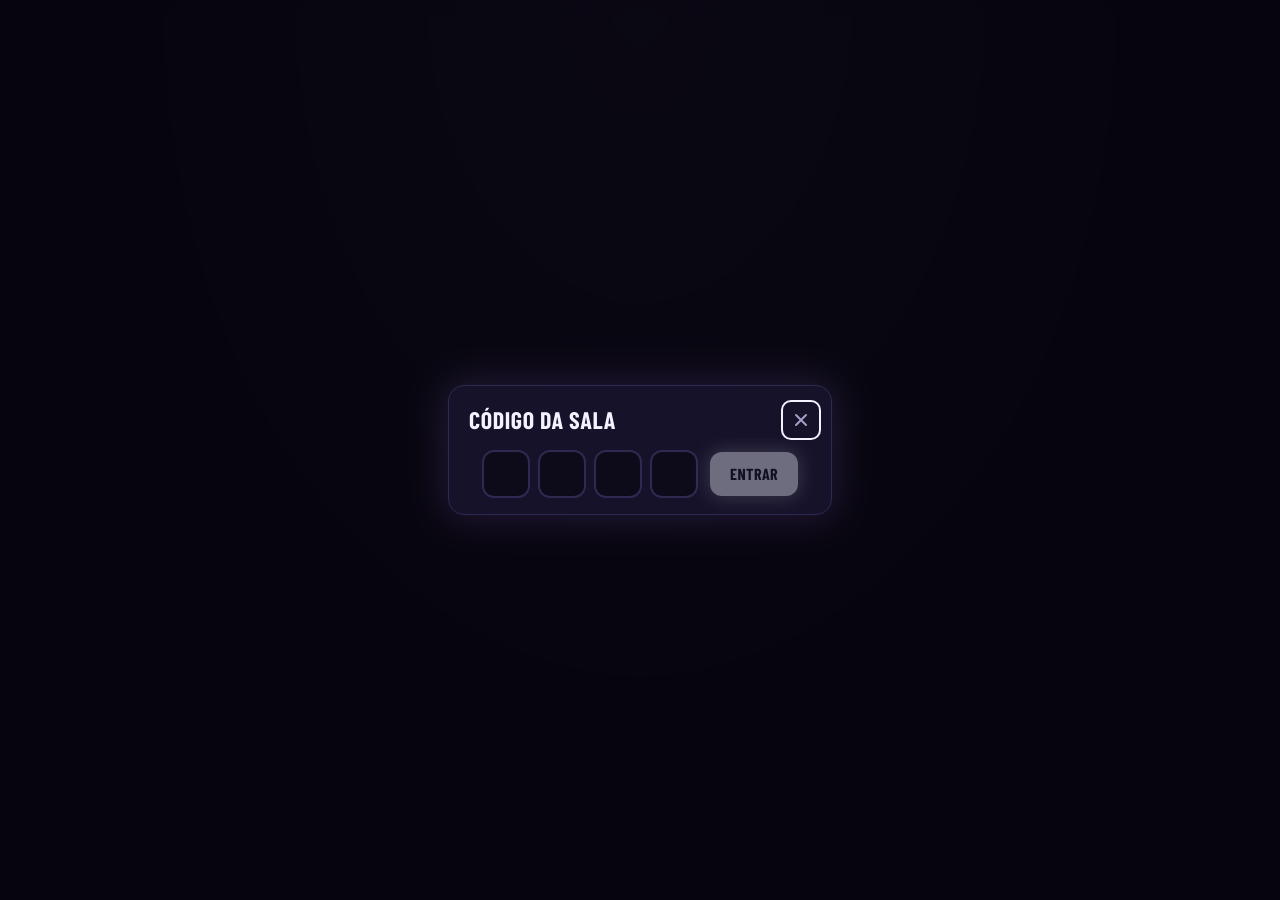
Test: JoinRoomModal › erro da sala aparece em vermelho e mantém os campos
This screenshot has width=1280, height=900.
Click the field named "Dígito 1" at coordinates (506, 474), box [482,450,530,498]
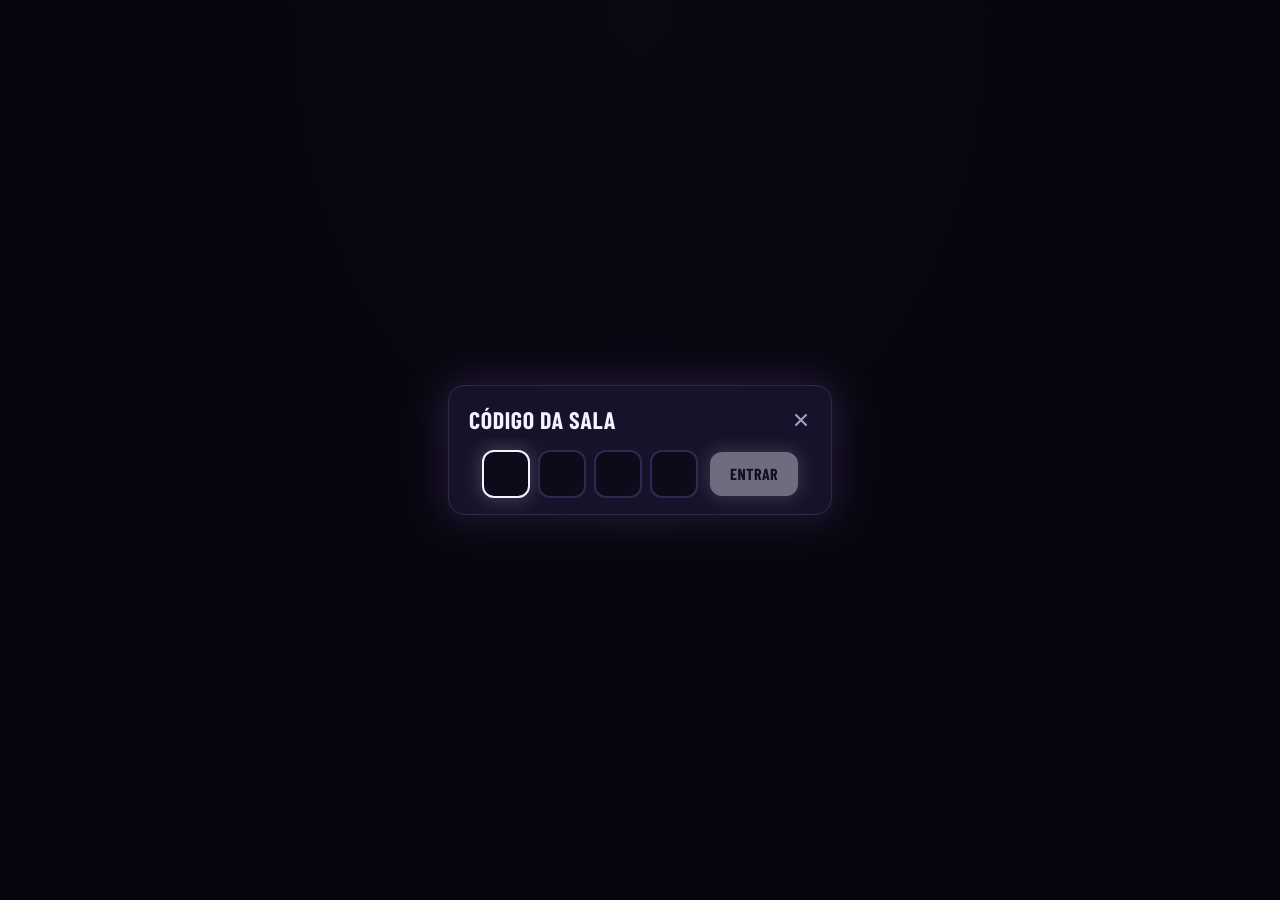
Type keys "4821"
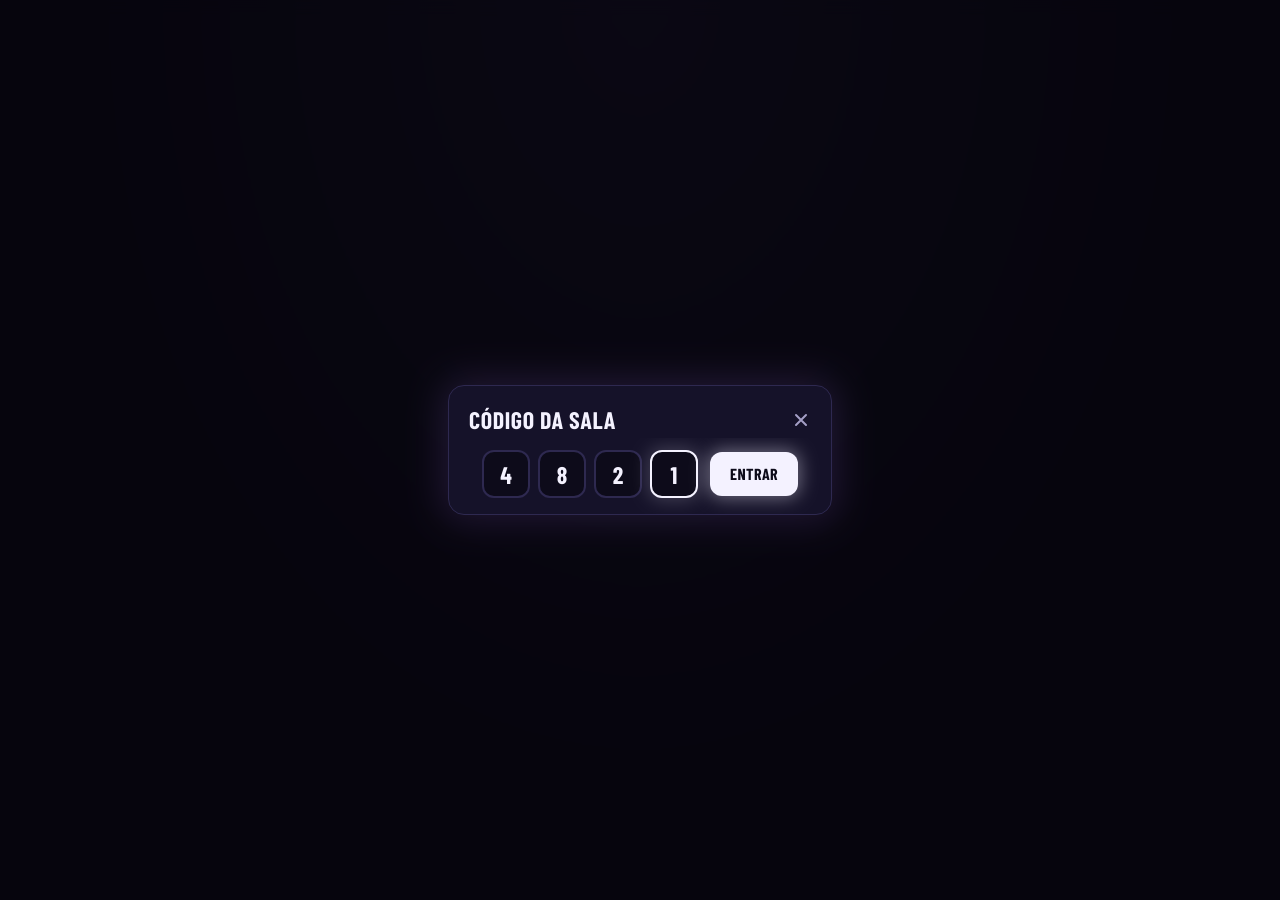
Click the button "Entrar" at coordinates (754, 474), box [710,452,798,496]
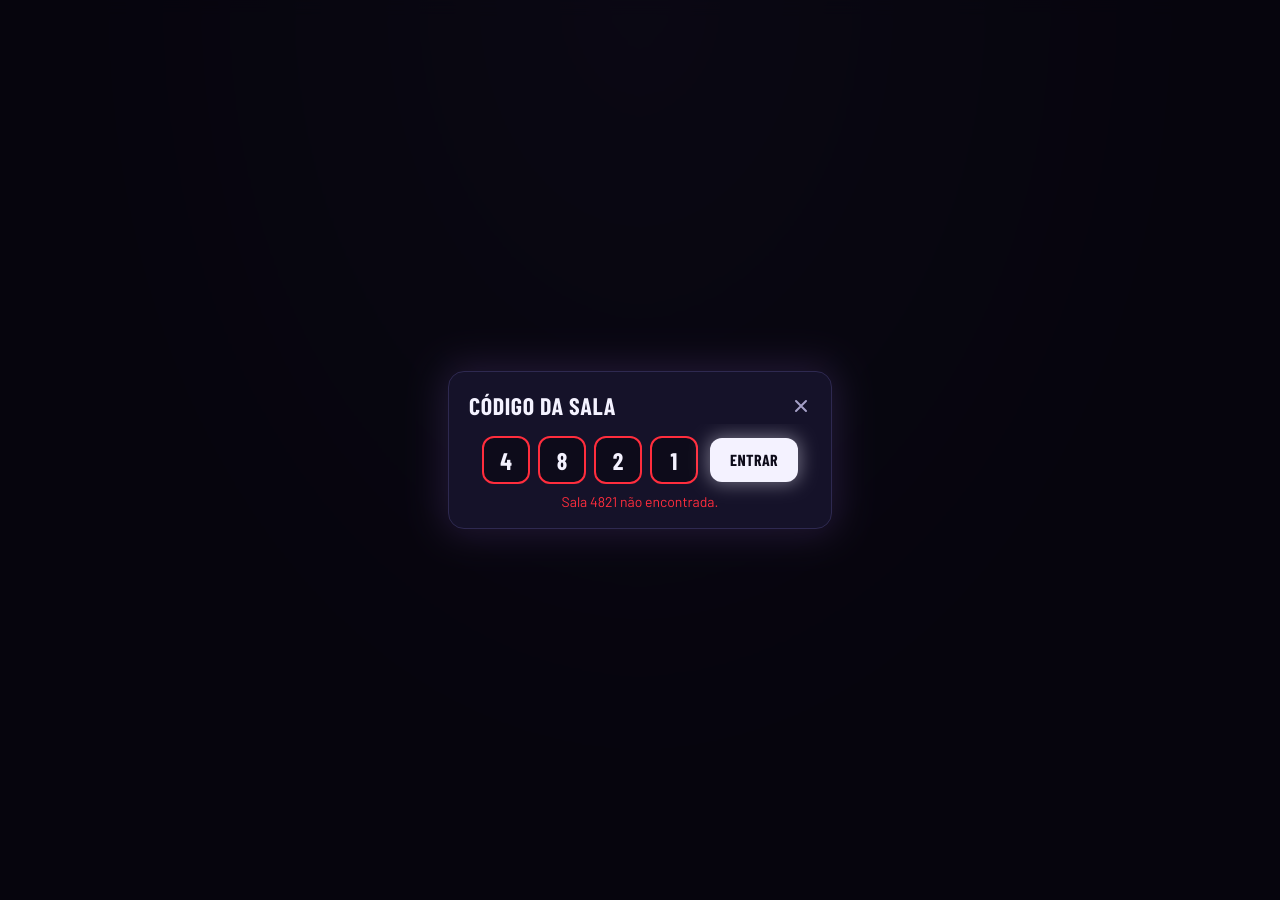
expect the message reads "Sala 4821 não encontrada.": met, box [562,493,718,510]
